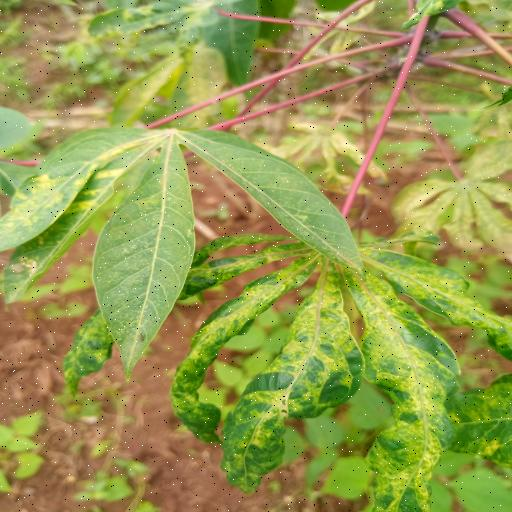Cassava_Mosaic: (60, 228, 512, 512), (2, 120, 361, 368)
